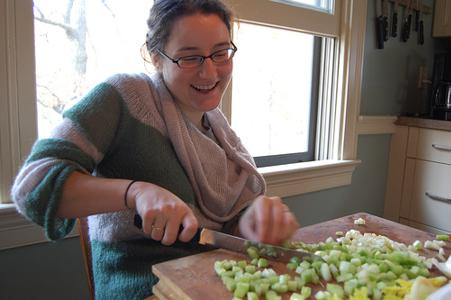person: (12, 3, 300, 299)
